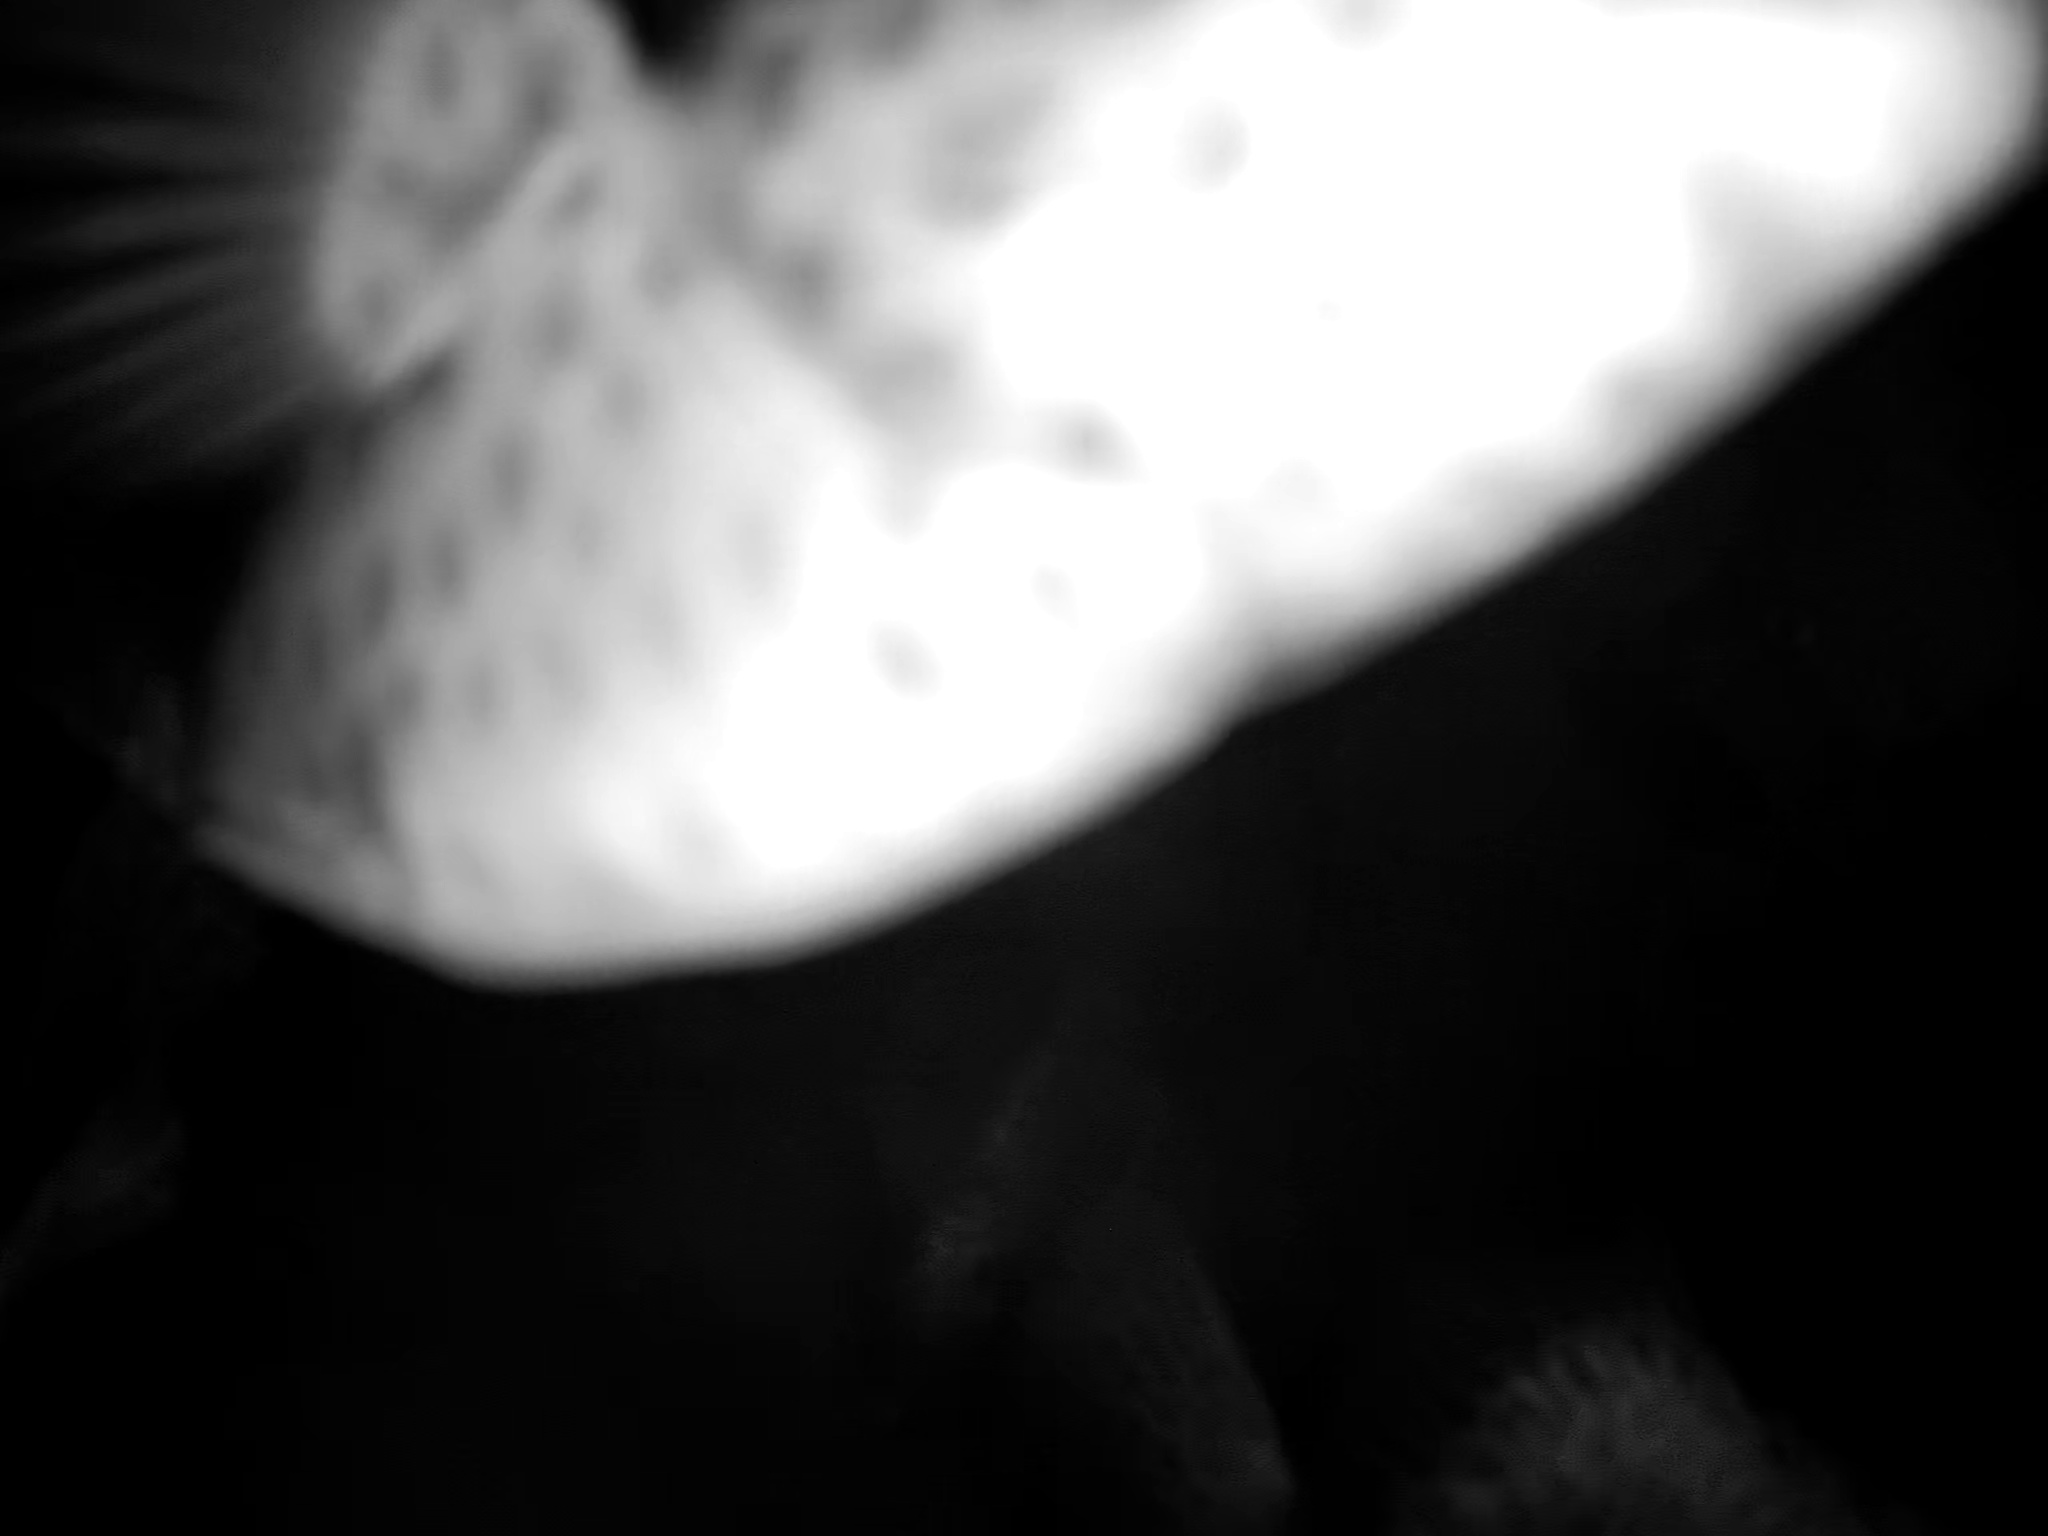fish: (52, 2, 2030, 1275)
